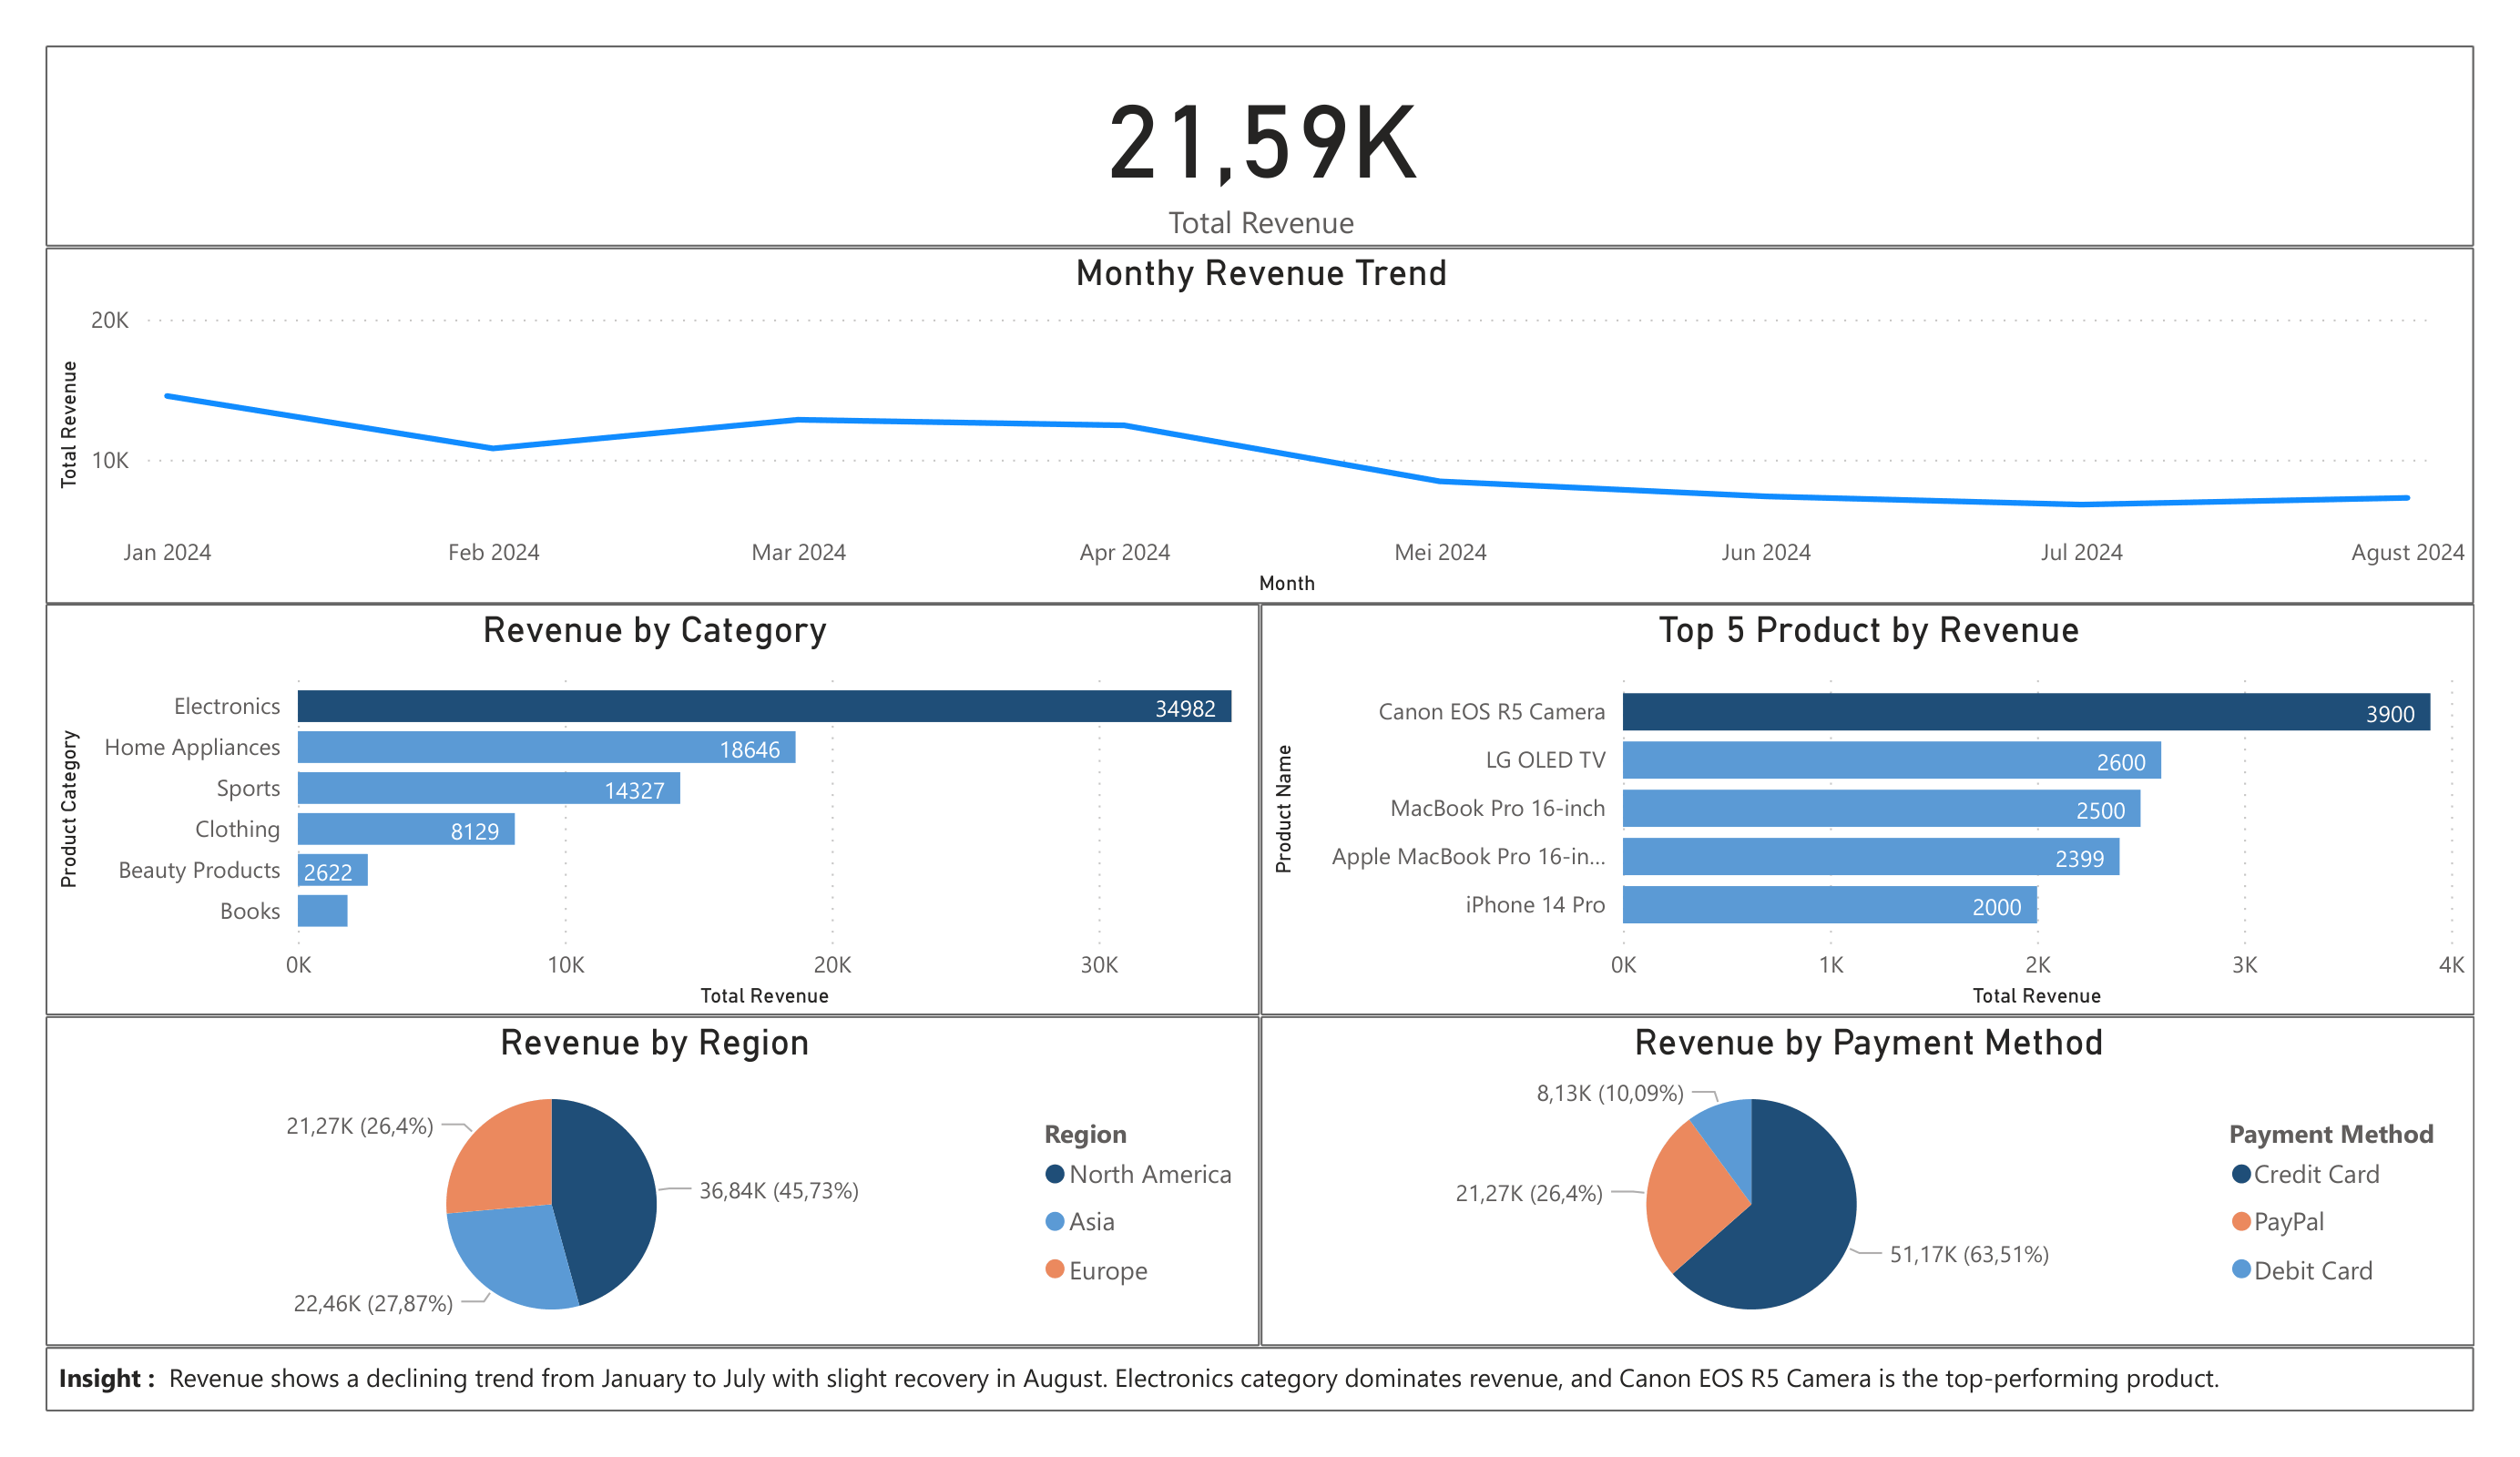

The page's visual inventory and layout, read from the dashboard file:
{"tool":"powerbi","page":{"name":"Page 3","canvas":[1280,720],"ordinal":0},"visuals":[{"type":"card","fields":{"Values":["Sum(Top Products.Total Revenue)"]},"box":[0,0,1279.9,106.4],"z":0},{"type":"lineChart","title":"Monthy Revenue Trend","fields":{"Category":["Monthly Trend.Month"],"Y":["Sum(Monthly Trend.Total Revenue)"]},"box":[0,106.4,1279.9,187.8],"z":1},{"type":"barChart","title":"Revenue by Category","fields":{"Category":["Category Sales.Product Category"],"Y":["Sum(Category Sales.Total Revenue)"]},"box":[0,294.3,640.4,217.3],"z":2},{"type":"barChart","title":"Top 5 Product by Revenue","fields":{"Category":["Top Products.Product Name"],"Y":["Sum(Top Products.Total Revenue)"]},"box":[640.4,294.3,639.5,217.3],"z":3},{"type":"pieChart","title":"Revenue by Region","fields":{"Y":["Sum(Region Sales.Total Revenue)"],"Category":["Region Sales.Region"]},"box":[0,511.6,640.4,174.4],"z":4},{"type":"pieChart","title":"Revenue by Payment Method","fields":{"Category":["Payment Method.Payment Method"],"Y":["Sum(Payment Method.Total Revenue)"]},"box":[640.4,511.6,639.5,174.4],"z":5},{"type":"textbox","box":[0,686,1279.9,34],"z":6}]}

Visuals, with their boxes in screenshot pixels (x1, y1, x2, y2):
card - Sum(Top Products.Total Revenue): (x1=59, y1=46, x2=2456, y2=245)
"Monthy Revenue Trend" lineChart: (x1=59, y1=245, x2=2456, y2=596)
"Revenue by Category" barChart: (x1=59, y1=597, x2=1259, y2=1004)
"Top 5 Product by Revenue" barChart: (x1=1259, y1=597, x2=2456, y2=1004)
"Revenue by Region" pieChart: (x1=59, y1=1004, x2=1259, y2=1330)
"Revenue by Payment Method" pieChart: (x1=1259, y1=1004, x2=2456, y2=1330)
textbox: (x1=59, y1=1330, x2=2456, y2=1394)
